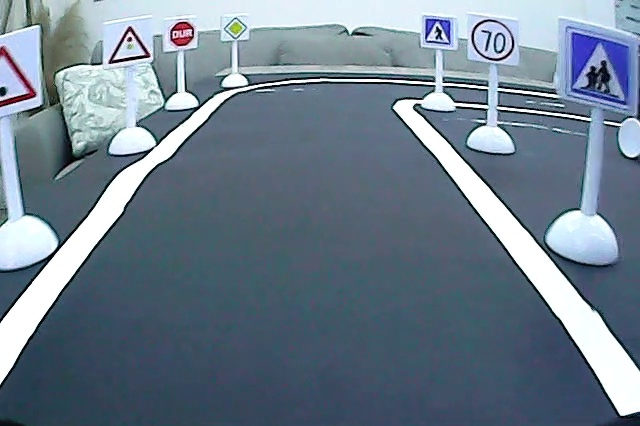pedestrian crossing: (422, 16, 455, 47)
red light: (106, 22, 153, 66)
school crossing: (565, 25, 635, 109)
speed limit 70: (468, 16, 518, 64)
stop sign: (168, 18, 196, 49)
